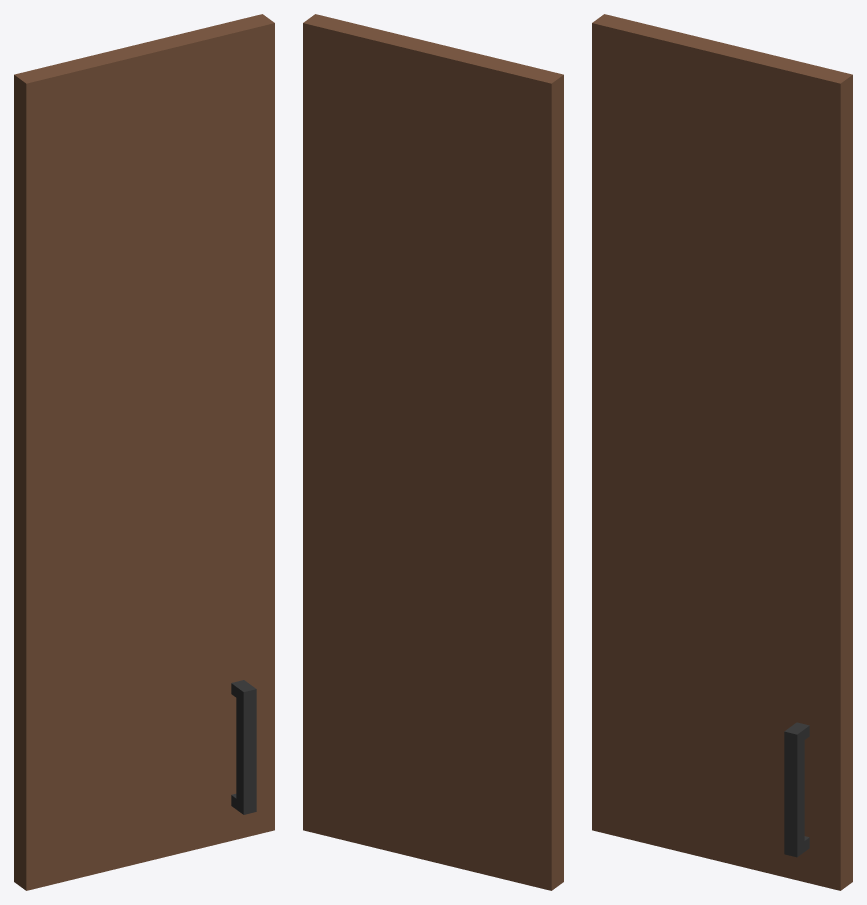
File: Door1_C2_14.fbx
3 renders of one model, left to right at view 1: azimuth 30°, elevation 25°; view 2: azimuth 150°, elevation 25°; view 3: azimuth 330°, elevation 25°, orthographic.
Visible parts, largest first — view 1: Door1_C2_14; view 2: Door1_C2_14; view 3: Door1_C2_14.
Boxes of the visible parts, x1=… form: Door1_C2_14: x1=14, y1=14, x2=274, y2=890; Door1_C2_14: x1=303, y1=14, x2=563, y2=890; Door1_C2_14: x1=592, y1=14, x2=852, y2=890.
Bounding box in the file's own units: 29 × 90 × 5.03.
